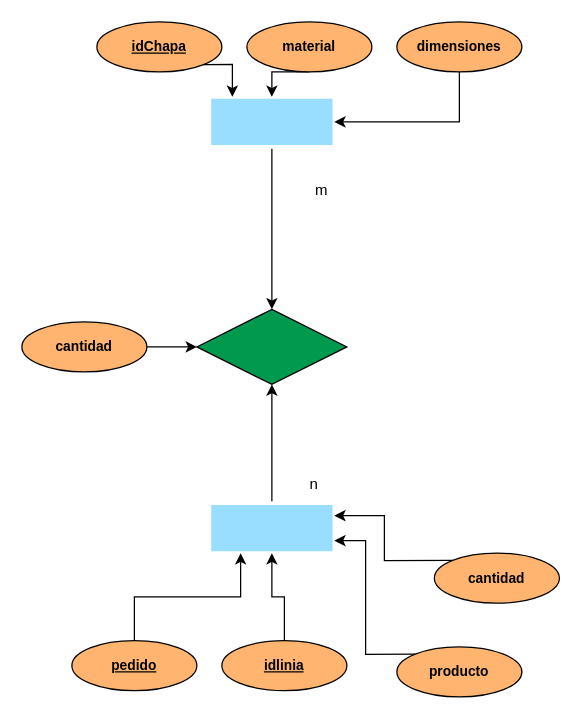
The diagram is 581 pixels wide and 719 high, and some of its shapes have lost their labels. Here are the shapes that lost their labels. From the top down, the centre of each, then its label:
At (x=271, y=121): "CHAPA".
At (x=271, y=346): "corte".
At (x=271, y=527): "liniaspedido".
